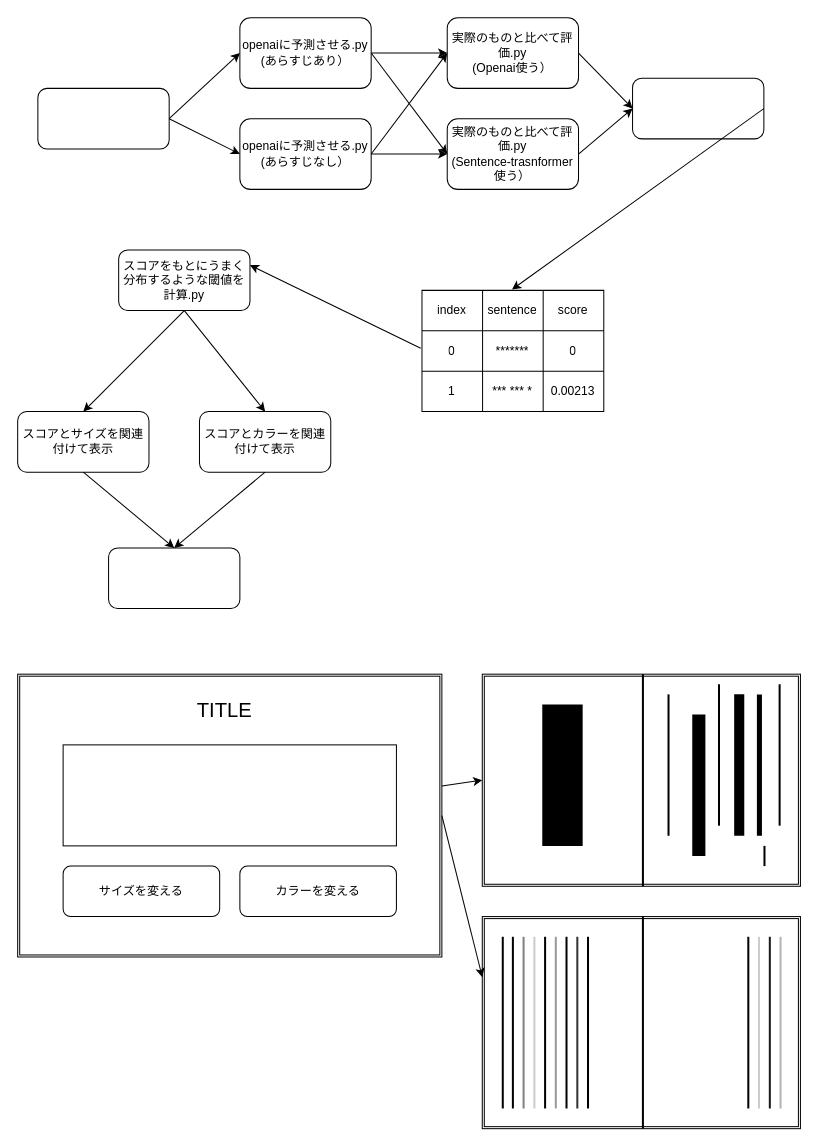
This 818x1147 diagram has some shape labels left out. The centre of each missing label's shape, as x and y in pixels:
"PDFに変換して見やすく.py" goes at point (174, 578).
"数値について厳密性を考えるby人" goes at point (698, 108).
"文字を入力するか、ファイルをアップロードしてください" goes at point (229, 795).
"文章を読み込む" goes at point (103, 118).
